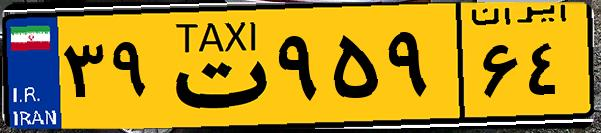3: (57, 26, 110, 100)
4: (525, 38, 570, 115)
5: (330, 28, 385, 110)
6: (475, 38, 525, 113)
9: (270, 28, 330, 110), (385, 28, 445, 110), (110, 28, 158, 98)
ت: (158, 12, 270, 120)
